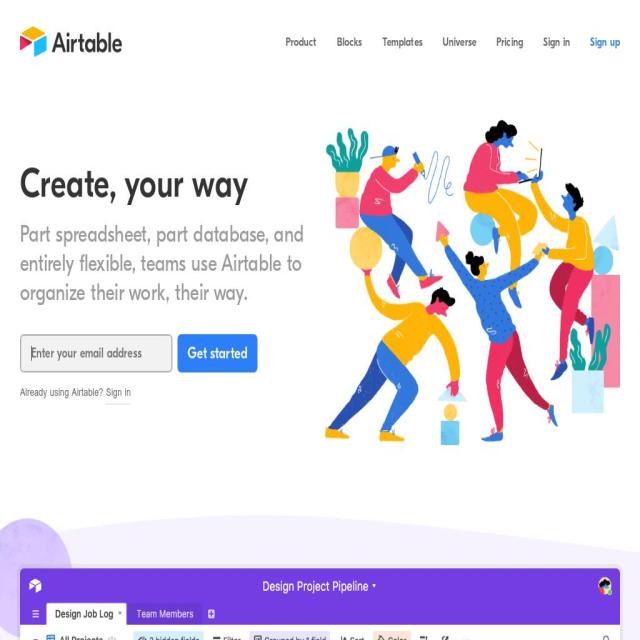button: (20, 0, 122, 86), (177, 334, 258, 374), (382, 35, 422, 51), (106, 383, 131, 406), (442, 35, 476, 51), (285, 35, 317, 51), (589, 35, 620, 51), (542, 35, 570, 51), (496, 35, 523, 51), (337, 35, 362, 51)
field: (20, 334, 172, 374)
heading: (20, 220, 320, 308), (20, 162, 320, 208), (187, 342, 248, 366)
image: (325, 112, 620, 449), (13, 559, 614, 640), (20, 568, 620, 640), (0, 515, 640, 553), (20, 27, 122, 56)
text: (20, 383, 106, 402)
